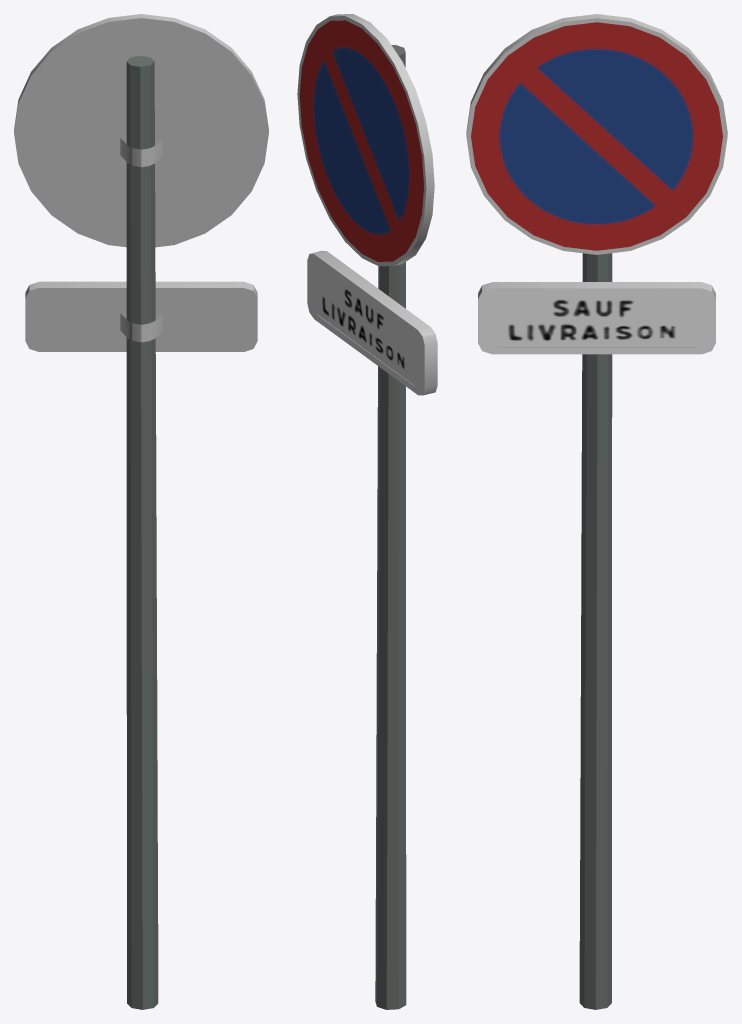
The model's file is SM_MetalPole_05.fbx.
3 views of the same model, side by side, from view 1: azimuth 90°, elevation 25°; view 2: azimuth 210°, elevation 25°; view 3: azimuth 270°, elevation 25° (orthographic). The views are drawn at different scales.
Parts seen in each view (by area): view 1: SM_MetalPole_05; view 2: SM_MetalPole_05; view 3: SM_MetalPole_05.
Part boxes in pixels (bbox=[...]): SM_MetalPole_05: bbox=[14, 14, 268, 1009]; SM_MetalPole_05: bbox=[297, 14, 437, 1009]; SM_MetalPole_05: bbox=[466, 14, 727, 1009].
Bounding box in the file's own units: 0.1237 × 2.69 × 0.6376.
